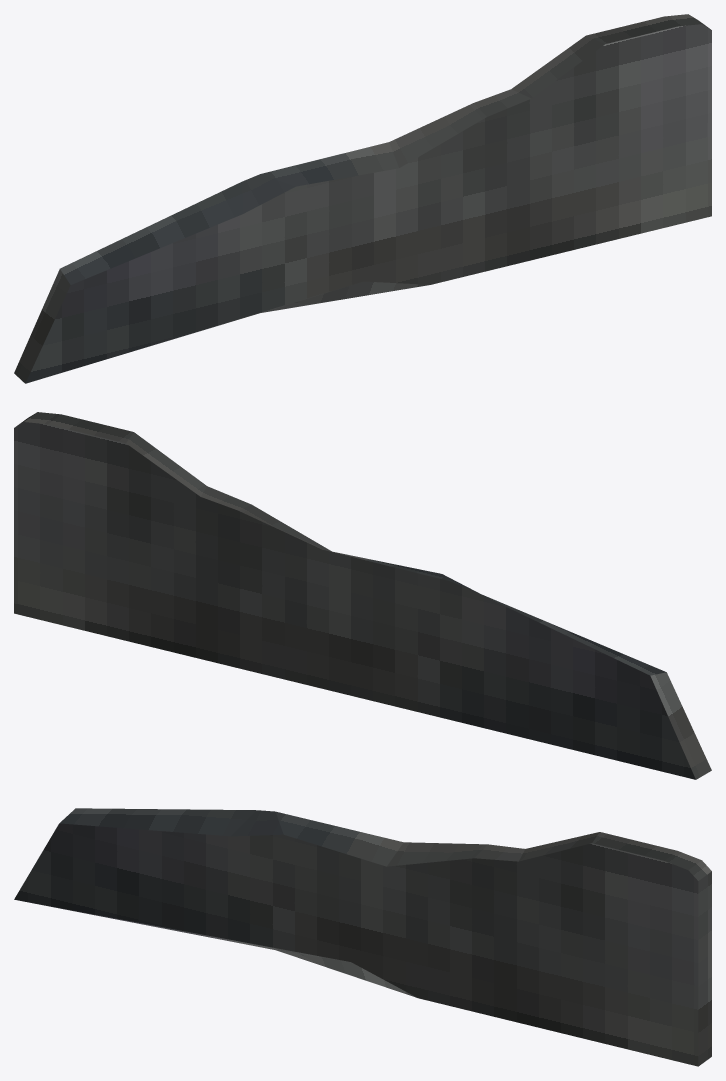
File: plackard_slab_broken_alt.glb
3 views of the same model, one above another, from view 1: azimuth 30°, elevation 25°; view 2: azimuth 150°, elevation 25°; view 3: azimuth 330°, elevation 25° (orthographic).
Parts seen in each view (by area): view 1: plackard_slab_broken_alt; view 2: plackard_slab_broken_alt; view 3: plackard_slab_broken_alt.
Part boxes in pixels (x1,y1,x2,y2): plackard_slab_broken_alt: [14, 14, 711, 383]; plackard_slab_broken_alt: [14, 412, 711, 779]; plackard_slab_broken_alt: [14, 808, 711, 1066].
Bounding box in the file's own units: 2.9 × 0.8 × 0.1.
1 material, 1 textured.
